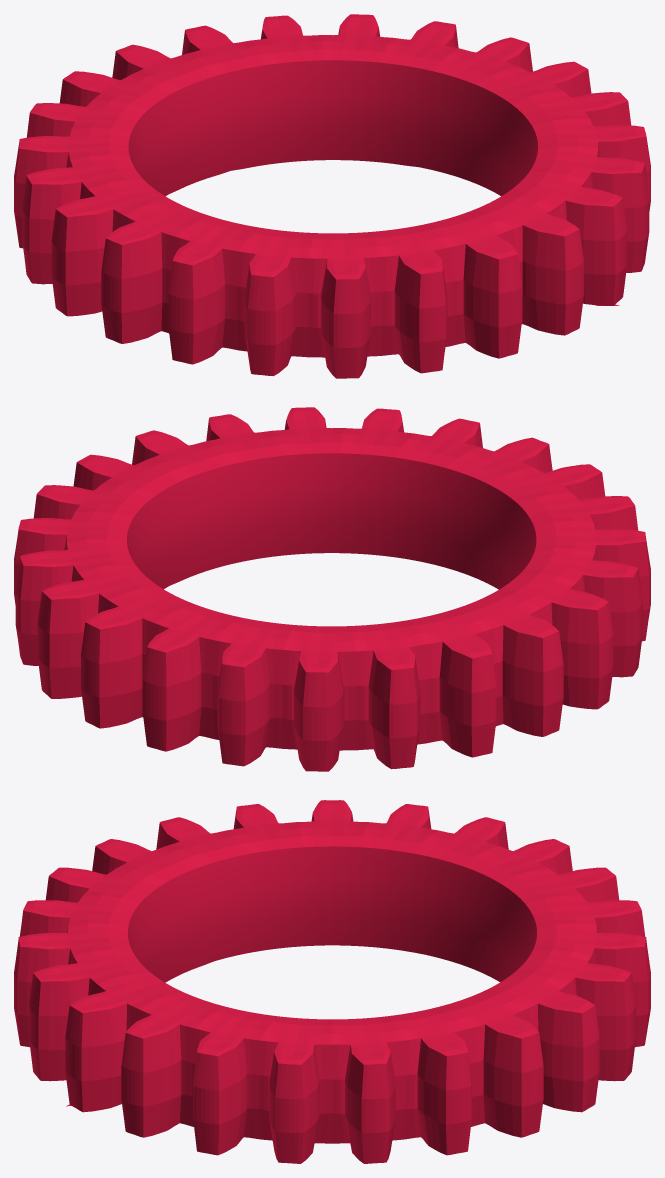
Rendered from gear.glb.
The picture shows the model from 3 angles, top to bottom: view 1: azimuth 30°, elevation 25°; view 2: azimuth 150°, elevation 25°; view 3: azimuth 270°, elevation 25°; orthographic projection.
Parts seen in each view (by area): view 1: Gear; view 2: Gear; view 3: Gear.
Boxes of the visible parts, <box> form: Gear: <box>14,14,650,378</box>; Gear: <box>14,407,650,771</box>; Gear: <box>14,800,650,1163</box>.
Size of the model in its own units: 2.33 by 0.4239 by 2.33.
